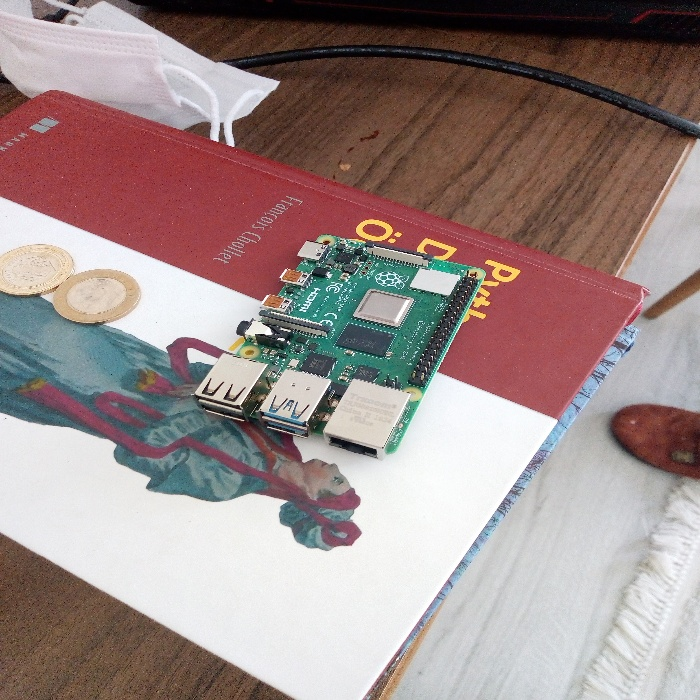raspberry: (194, 232, 490, 454)
